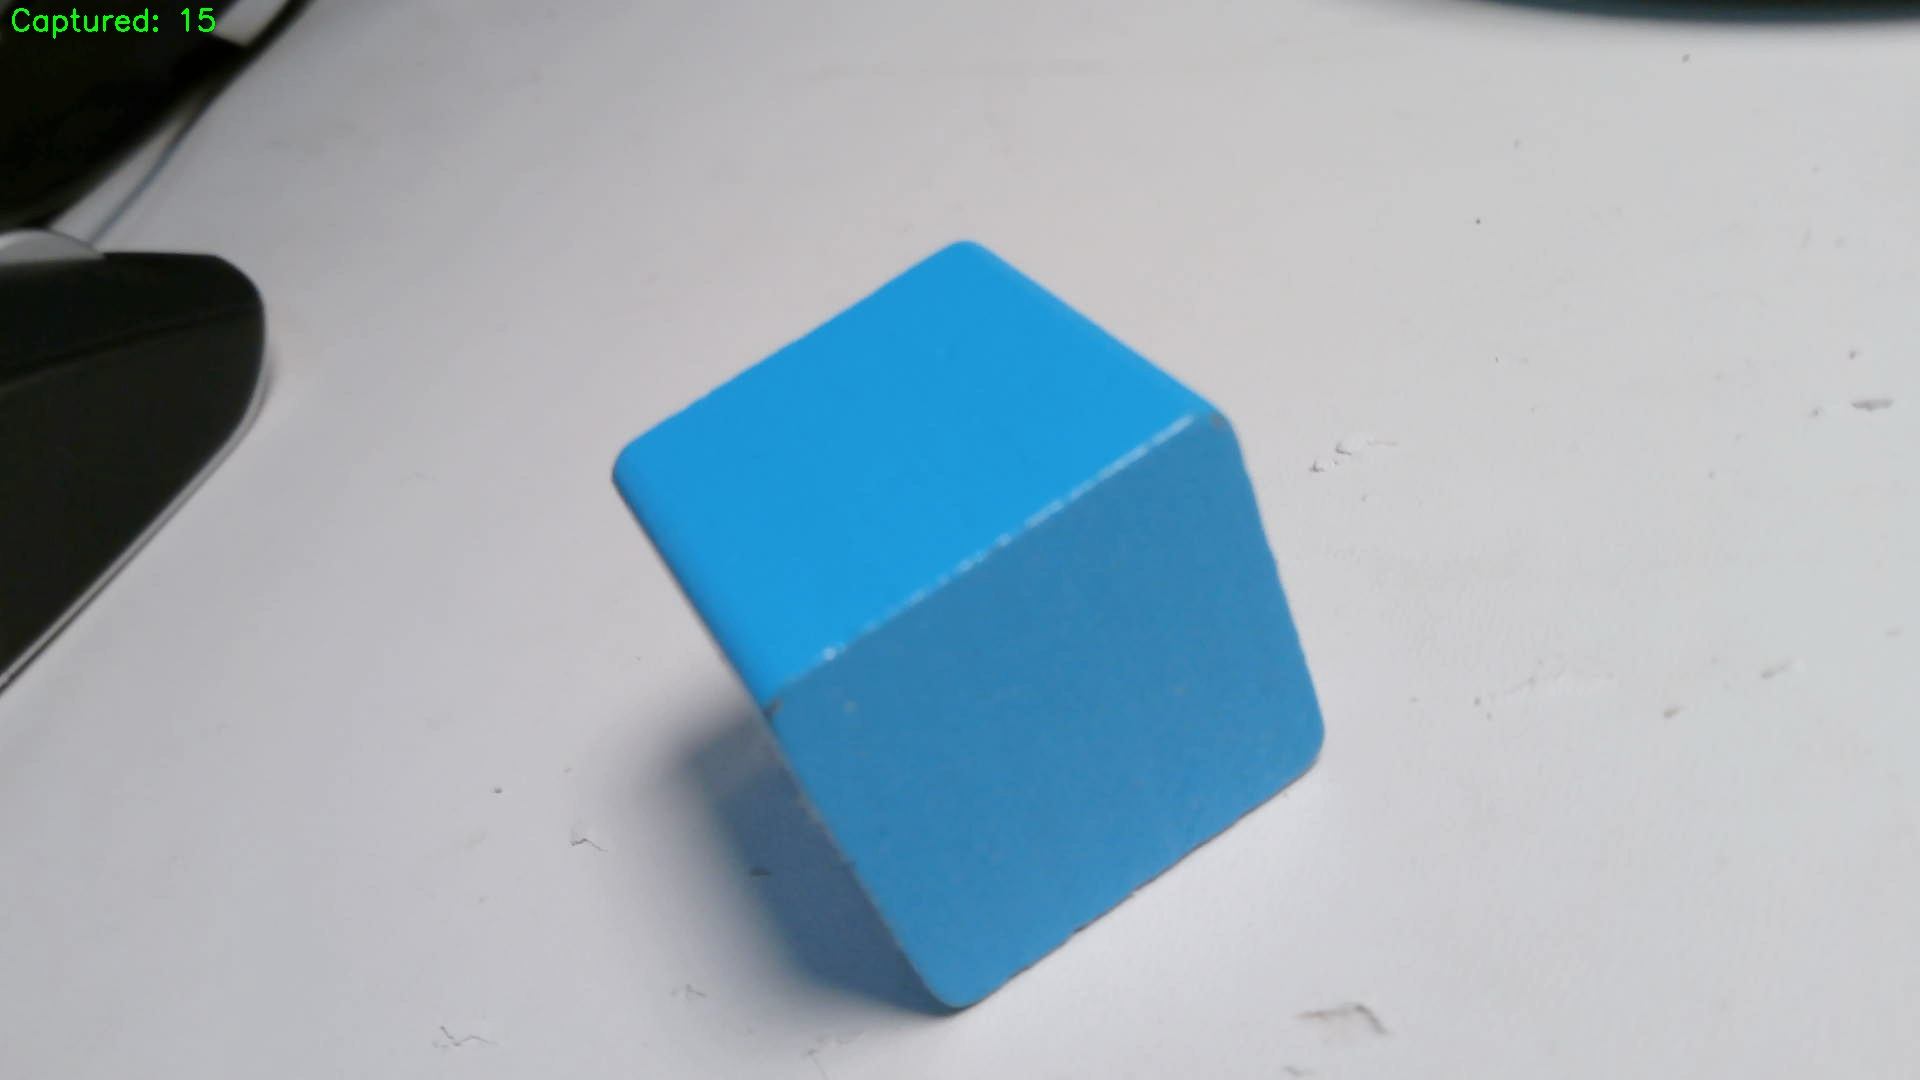blue: (615, 243, 1324, 1021)
